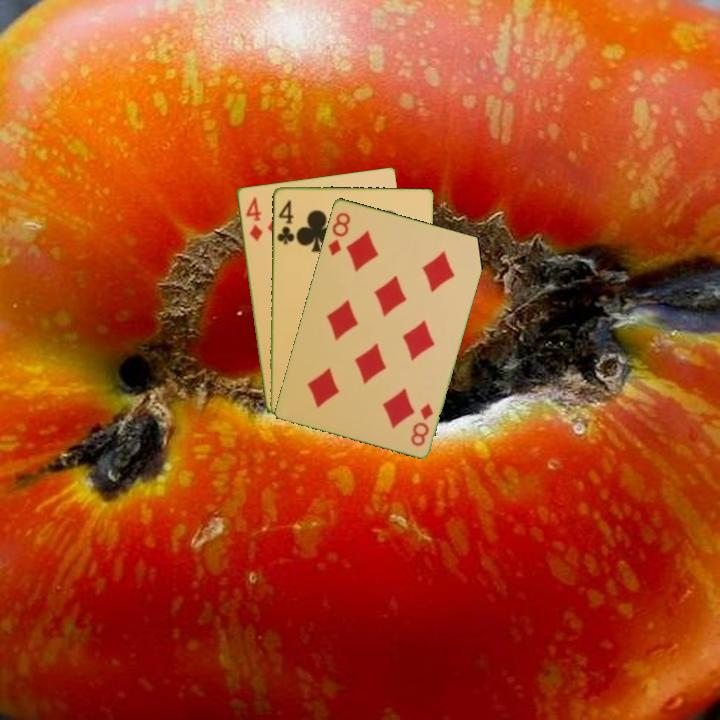4c: (273, 196, 297, 247)
4d: (242, 193, 266, 244)
8d: (324, 208, 353, 258), (407, 399, 436, 449)
